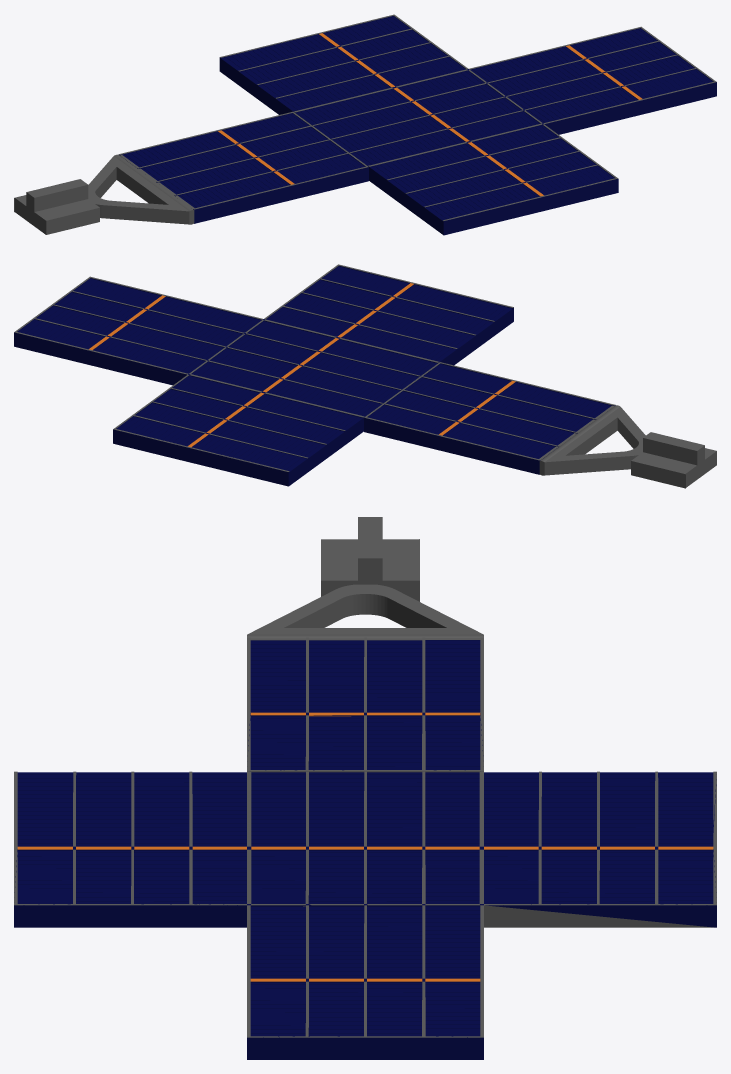
The model's file is RightWing.gltf.
3 renders of one model, top to bottom at view 1: azimuth 30°, elevation 25°; view 2: azimuth 150°, elevation 25°; view 3: azimuth 270°, elevation 25°, orthographic. The views are drawn at different scales.
Parts seen in each view (by area): view 1: Psyche_Spacecraft_-_Right_Solar_Panels; view 2: Psyche_Spacecraft_-_Right_Solar_Panels; view 3: Psyche_Spacecraft_-_Right_Solar_Panels.
Boxes of the visible parts, x1=… form: Psyche_Spacecraft_-_Right_Solar_Panels: x1=14, y1=14, x2=716, y2=235; Psyche_Spacecraft_-_Right_Solar_Panels: x1=14, y1=264, x2=716, y2=488; Psyche_Spacecraft_-_Right_Solar_Panels: x1=14, y1=517, x2=716, y2=1059.
Size of the model in its own units: 237 by 10.65 by 142.
